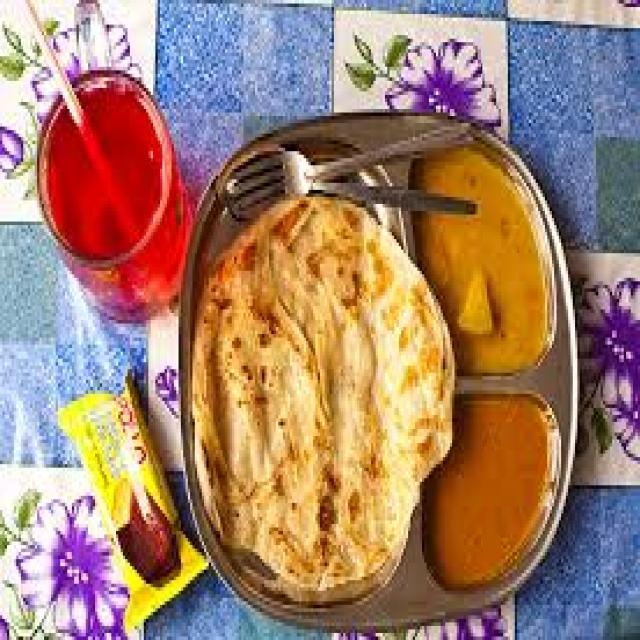Anorganik: (176, 109, 575, 629), (35, 64, 199, 316), (218, 112, 468, 200), (225, 180, 475, 228)
Organik: (190, 186, 450, 594), (410, 144, 552, 369), (426, 394, 550, 587), (49, 84, 162, 260), (454, 264, 492, 330)
